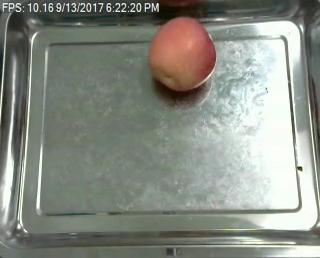apple: (149, 16, 217, 92)
